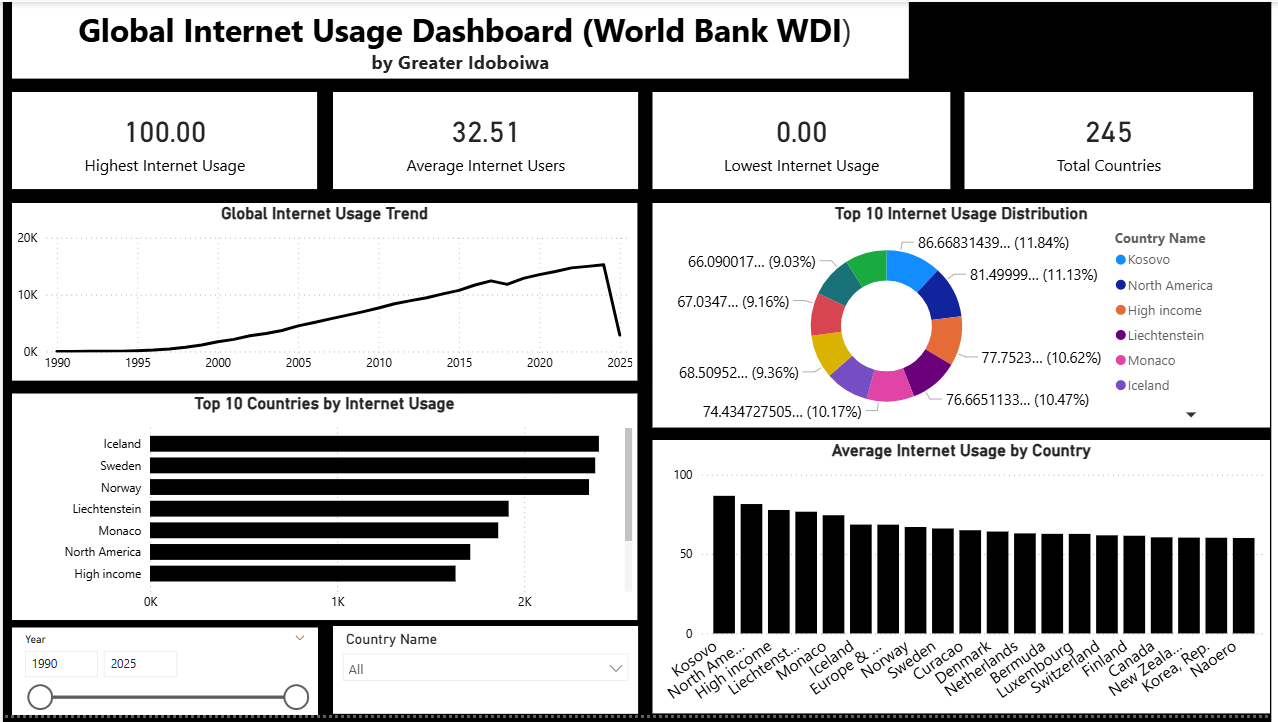

This screenshot's page, from the dashboard's own definition file:
{"tool":"powerbi","page":{"name":"Page 1","canvas":[1280,720],"ordinal":0},"visuals":[{"type":"card","fields":{"Values":["WDICSV.Highest Internet Usage"]},"box":[9.4,90.7,308,98.3],"z":0},{"type":"card","fields":{"Values":["WDICSV.Lowest Internet Usage"]},"box":[655.8,90.7,300.5,98.3],"z":1},{"type":"card","fields":{"Values":["WDICSV.Total Countries"]},"box":[971.3,90.7,291,98.3],"z":2},{"type":"card","fields":{"Values":["WDICSV.Average Internet Users"]},"box":[332.6,90.7,308,98.3],"z":3},{"type":"lineChart","title":"Global Internet Usage Trend","fields":{"Category":["WDICSV.Year"],"Y":["Sum(WDICSV.Internet Users (%))"]},"box":[9.4,202.2,631.2,179.5],"z":4},{"type":"barChart","title":"Top 10 Countries by Internet Usage","fields":{"Category":["WDICSV.Country Name"],"Y":["Sum(WDICSV.Internet Users (%))"]},"box":[9.4,395,631.2,228.7],"z":5},{"type":"clusteredColumnChart","title":"Average Internet Usage by Country","fields":{"Category":["WDICSV.Country Name"],"Y":["Avg(WDICSV.Internet Users (%))"]},"box":[655.8,442.2,623.6,275.9],"z":7},{"type":"slicer","fields":{"Values":["WDICSV.Year"]},"box":[9.4,631.2,308,88.8],"z":8},{"type":"slicer","fields":{"Values":["WDICSV.Country Name"]},"box":[332.6,629.3,308,88.8],"z":9},{"type":"textbox","box":[8.7,0,905.4,77.1],"z":10},{"type":"donutChart","title":"Top 10 Internet Usage Distribution","fields":{"Category":["WDICSV.Country Name"],"Y":["Avg(WDICSV.Internet Users (%))"]},"box":[655.8,202.2,623.6,226.8],"z":11}]}

Visuals, with their boxes in screenshot pixels (x1, y1, x2, y2), scaled from the page's 1280x720 canvas onto the 1278x722 screenshot:
card - WDICSV.Highest Internet Usage: (9, 91, 317, 190)
card - WDICSV.Lowest Internet Usage: (655, 91, 955, 190)
card - WDICSV.Total Countries: (970, 91, 1260, 190)
card - WDICSV.Average Internet Users: (332, 91, 640, 190)
"Global Internet Usage Trend" lineChart: (9, 203, 640, 383)
"Top 10 Countries by Internet Usage" barChart: (9, 396, 640, 625)
"Average Internet Usage by Country" clusteredColumnChart: (655, 443, 1277, 720)
slicer - WDICSV.Year: (9, 633, 317, 721)
slicer - WDICSV.Country Name: (332, 631, 640, 720)
textbox: (9, 0, 913, 77)
"Top 10 Internet Usage Distribution" donutChart: (655, 203, 1277, 430)
